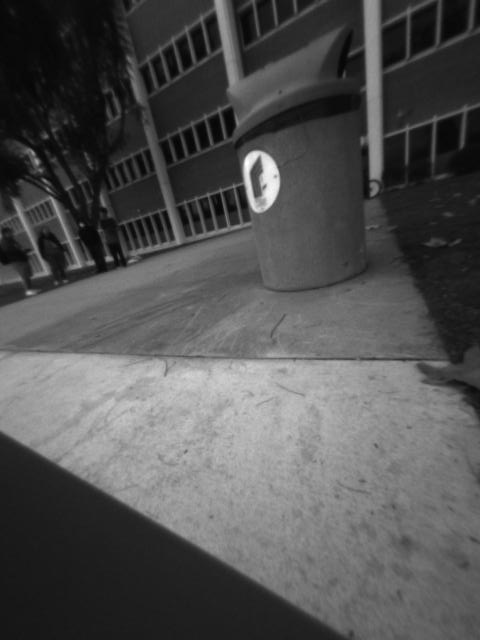trashcan: (224, 25, 375, 295)
